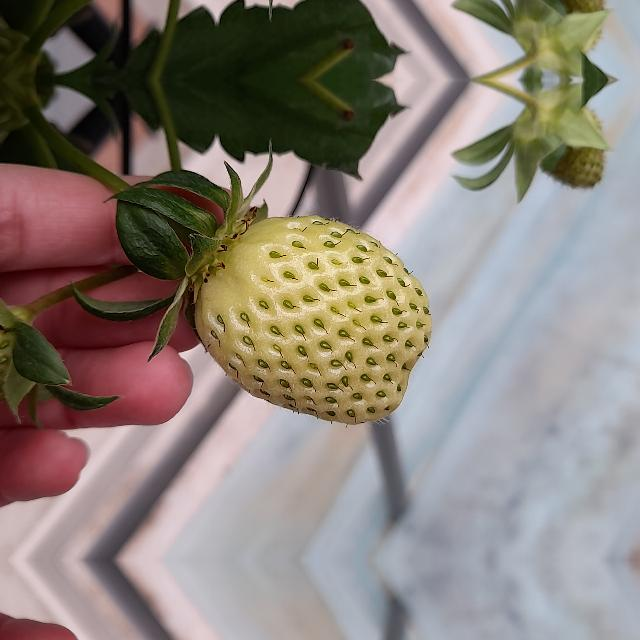Health_25: (194, 213, 430, 424)
